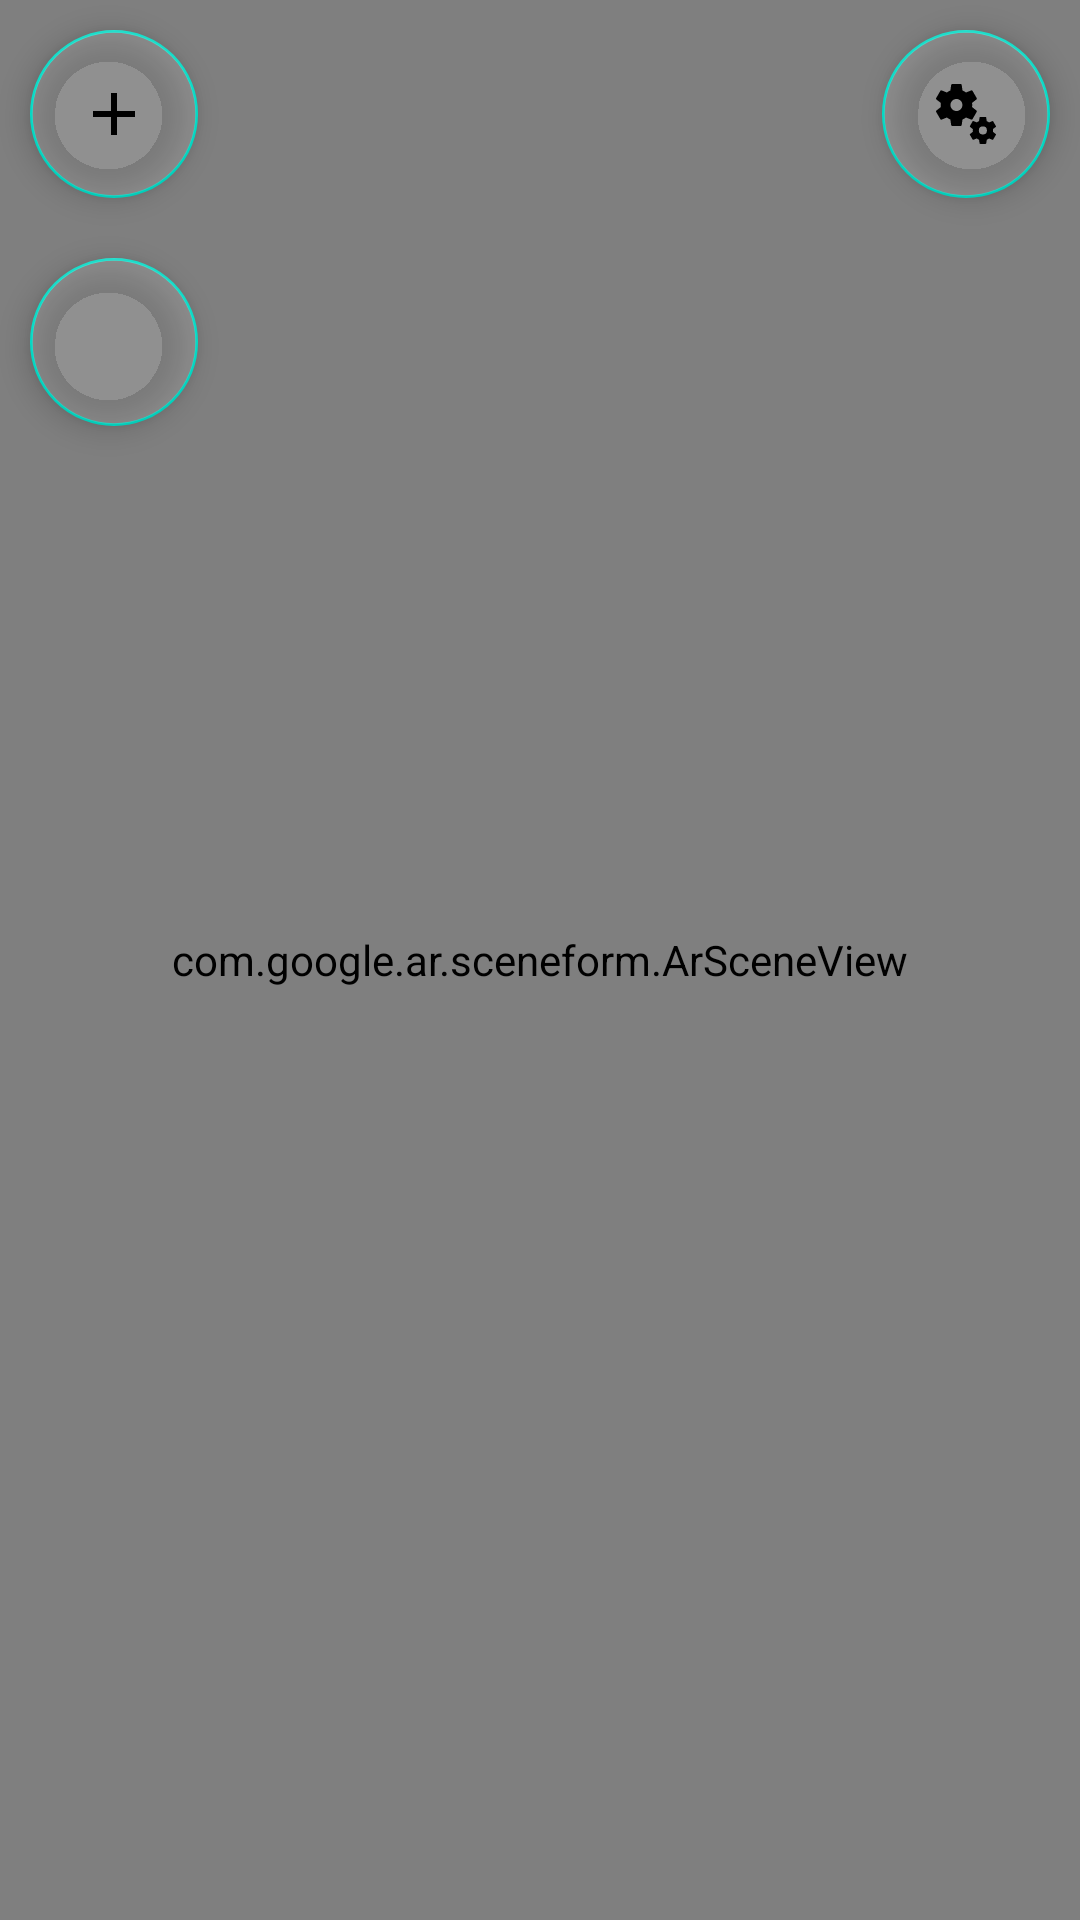

Point at icon controls on the screen. Image size 1080*1920, points as point (x, y).
add: point (114, 114)
settings: point (966, 114)
